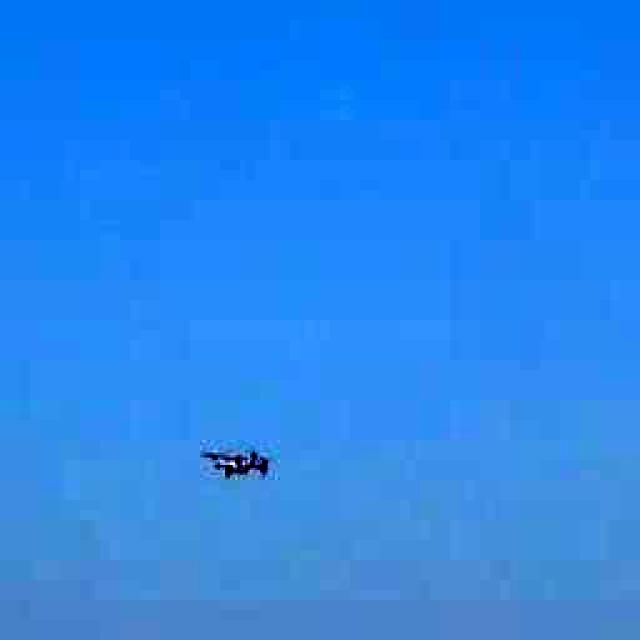bird: (184, 420, 294, 502)
